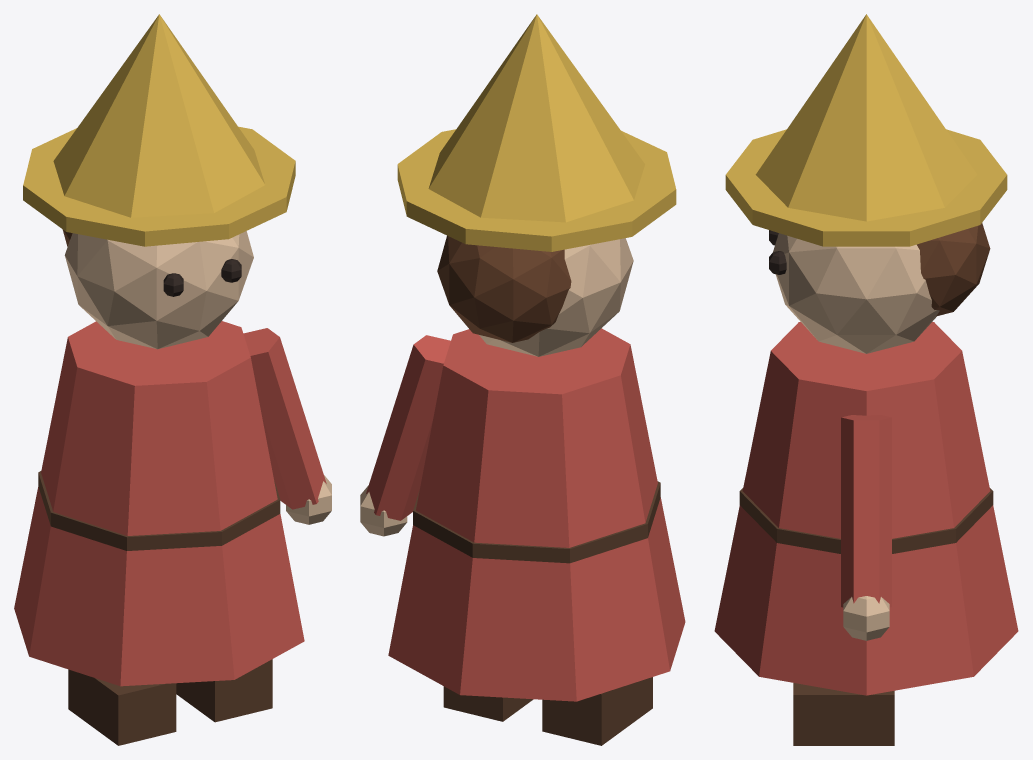
Rendered from villager_1_p.glb.
The picture shows the model from 3 angles, left to right: view 1: azimuth 30°, elevation 25°; view 2: azimuth 150°, elevation 25°; view 3: azimuth 270°, elevation 25°; orthographic projection. The views are drawn at different scales.
Parts seen in each view (by area): view 1: villager_1_p; view 2: villager_1_p; view 3: villager_1_p.
Part boxes in pixels (left/top/right/bottom): villager_1_p: left=14, top=14, right=331, bottom=745; villager_1_p: left=360, top=14, right=685, bottom=745; villager_1_p: left=714, top=14, right=1018, bottom=745.
Bounding box in the file's own units: 0.5334 × 1.16 × 0.459.
